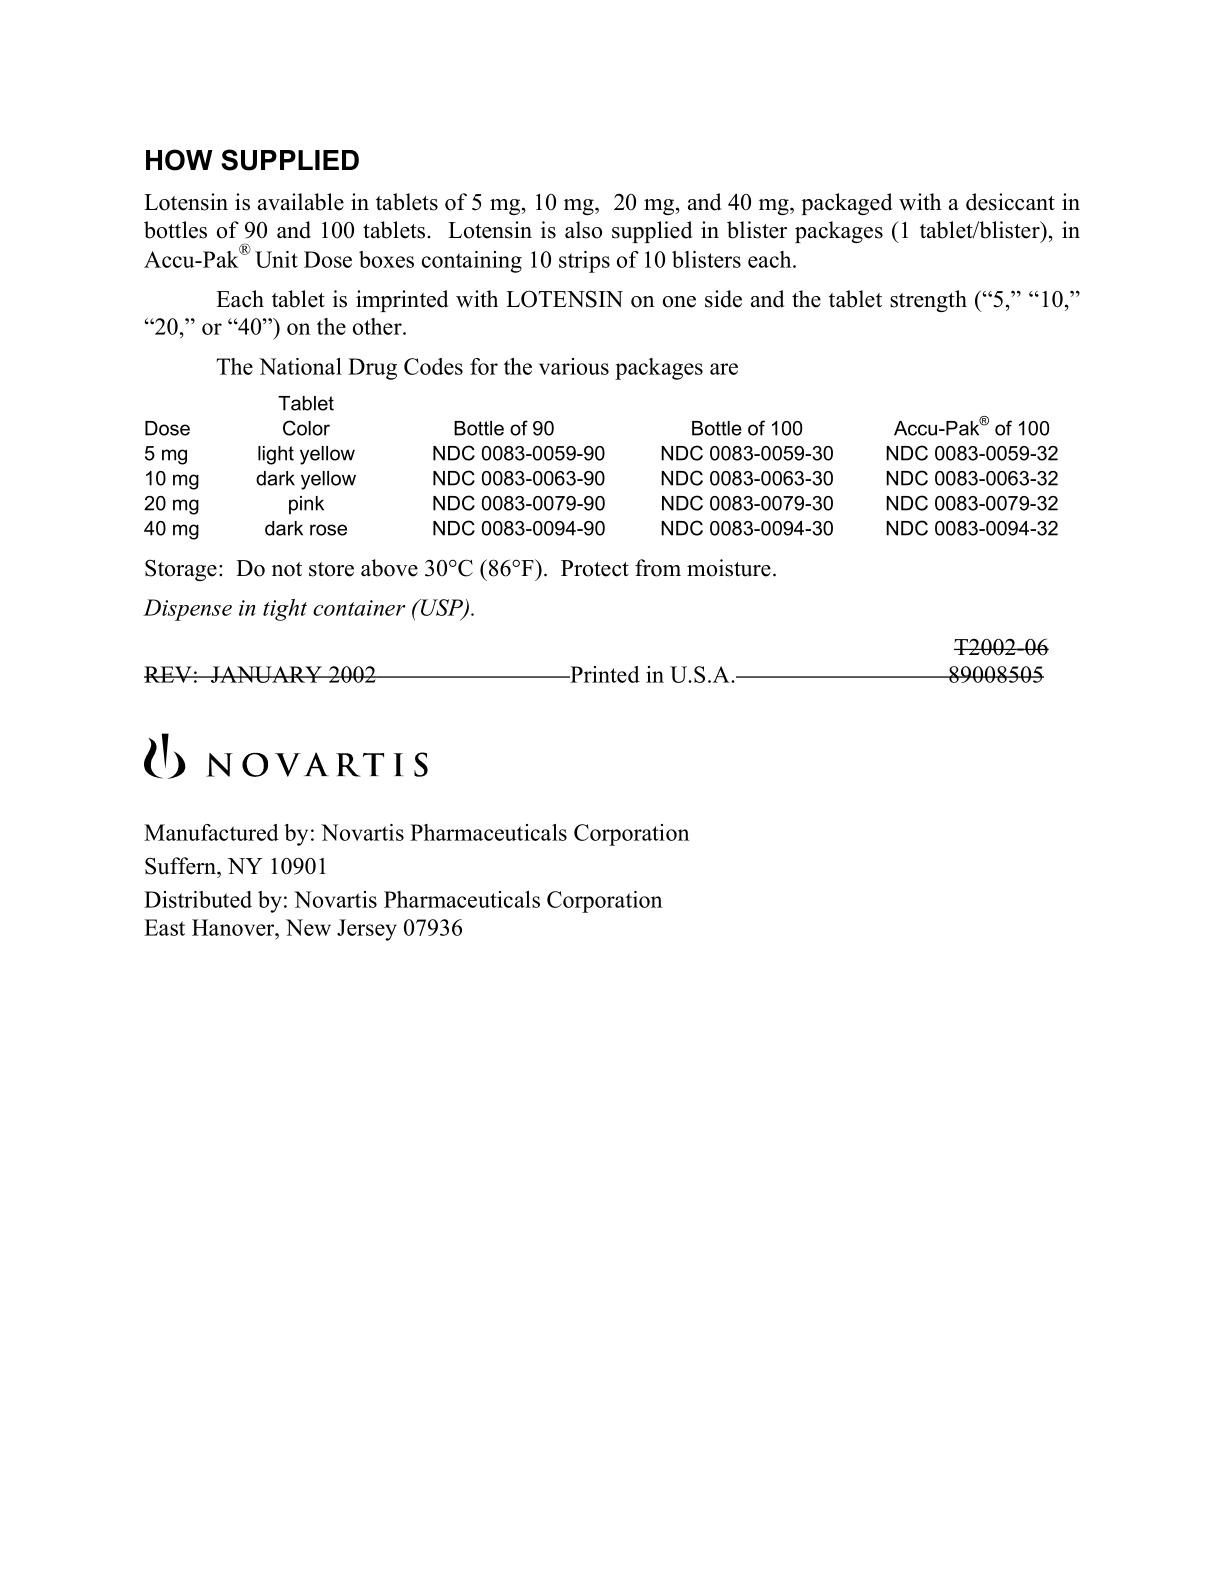nolines: (141, 393, 1065, 541)
